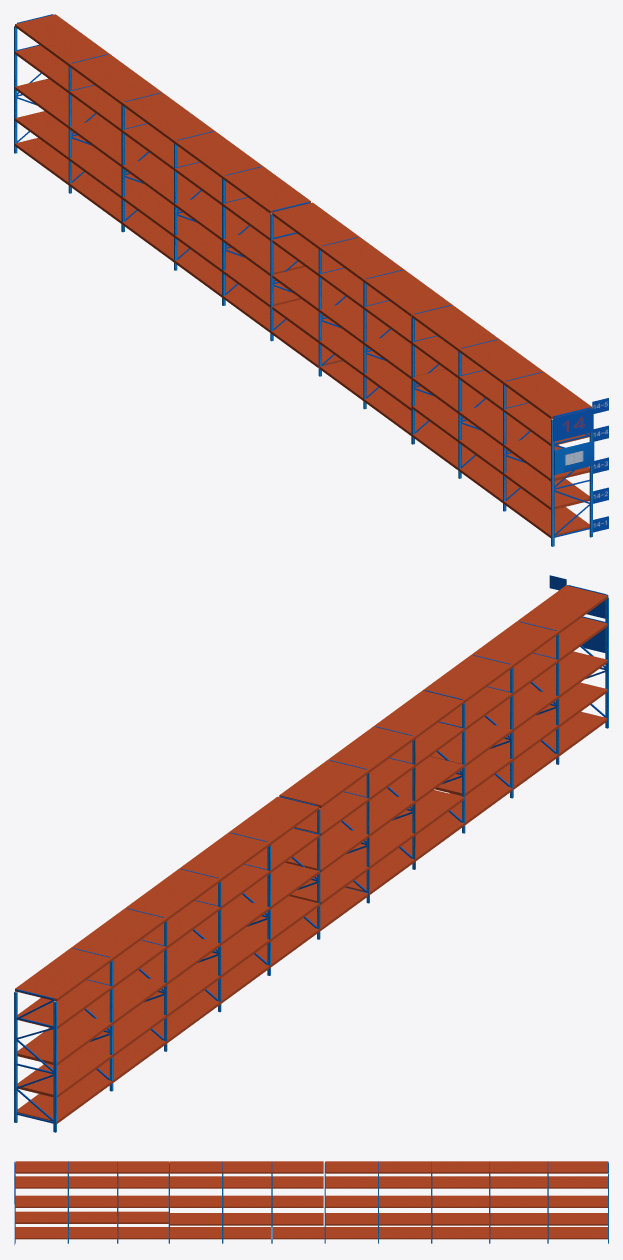
The model's file is Shelf14.FBX.
The picture shows the model from 3 angles, top to bottom: view 1: azimuth 30°, elevation 25°; view 2: azimuth 150°, elevation 25°; view 3: azimuth 270°, elevation 25°; orthographic projection. The views are drawn at different scales.
Visible parts, largest first — view 1: 图形450, 14-5-11, 14-5-10, 14-5-09, 14-5-01, 14-5-07, 14-5-08, 14-5-04, 14-5-06, 14-5-03, 14-5-02, 14-5-05 (+46 smaller); view 2: 图形450, 14-5-11, 14-5-10, 14-5-09, 14-3-11, 14-5-08, 14-5-07, 14-5-04, 14-5-01, 14-5-06, 14-5-03, 14-5-02 (+44 smaller); view 3: 图形450, 14-5-11, 14-4-11, 14-2-11, 14-3-11, 14-1-11, 14-5-09, 14-5-10, 14-4-10, 14-2-10, 14-3-10, 14-1-09 (+44 smaller).
Boxes of the visible parts, x1,y1,x2,y2 form: 图形450: (14,14,592,546); 14-5-11: (15,14,109,65); 14-5-10: (69,54,162,104); 14-5-09: (122,92,214,143); 14-5-01: (504,372,591,419); 14-5-07: (222,166,310,213); 14-5-08: (174,131,262,178); 14-5-04: (364,270,451,316); 14-5-06: (272,202,358,248); 14-5-03: (412,305,498,350); 14-5-02: (458,339,544,384); 14-5-05: (318,236,404,281); 图形450: (14,585,608,1132); 14-5-11: (15,948,112,1001); 14-5-10: (71,908,166,960); 14-5-09: (125,868,220,920); 14-3-11: (17,1014,112,1065); 14-5-08: (179,832,270,880); 14-5-07: (228,796,319,844); 14-5-04: (374,690,464,738); 14-5-01: (518,585,607,633); 14-5-06: (279,760,368,807); 14-5-03: (423,655,512,702); 14-5-02: (471,621,559,667); 图形450: (14,1161,608,1243); 14-5-11: (548,1161,607,1173); 14-4-11: (548,1176,607,1188); 14-2-11: (548,1213,607,1225); 14-3-11: (548,1195,607,1207); 14-1-11: (548,1227,607,1239); 14-5-09: (431,1161,489,1173); 14-5-10: (489,1161,547,1173); 14-4-10: (490,1176,547,1188); 14-2-10: (490,1213,547,1225); 14-3-10: (490,1195,547,1207); 14-1-09: (437,1227,495,1239).
Size of the model in its own units: 1.14 by 18.56 by 2.56.
